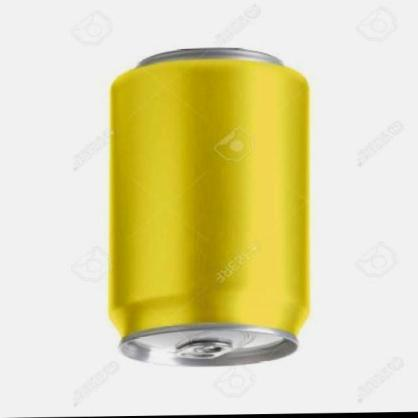can: (107, 47, 312, 368)
